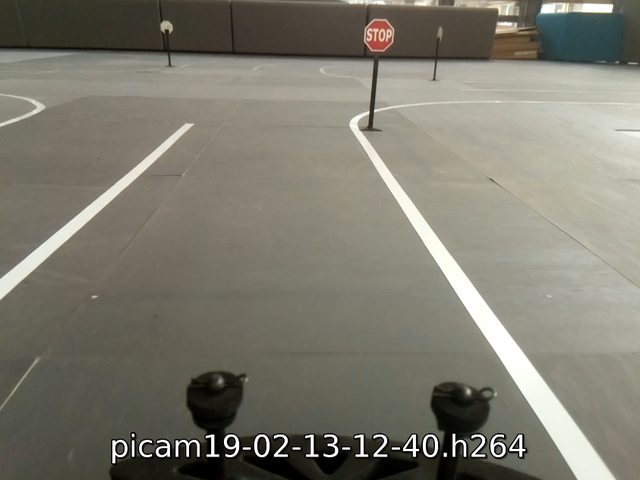stop: (363, 18, 394, 51)
